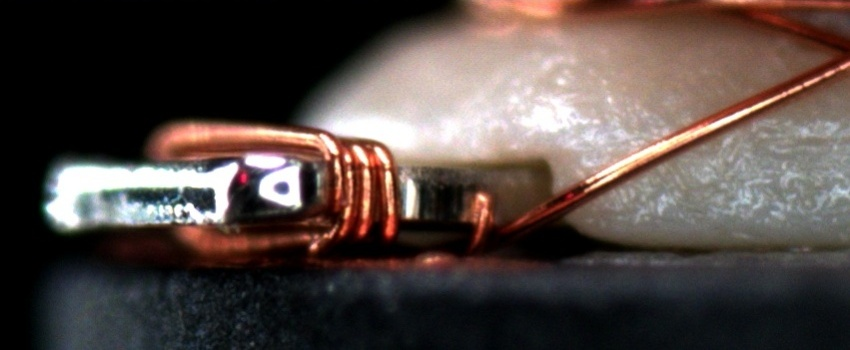CL: (813, 30, 849, 73)
DL: (734, 117, 849, 165)
TE: (153, 115, 500, 258)
